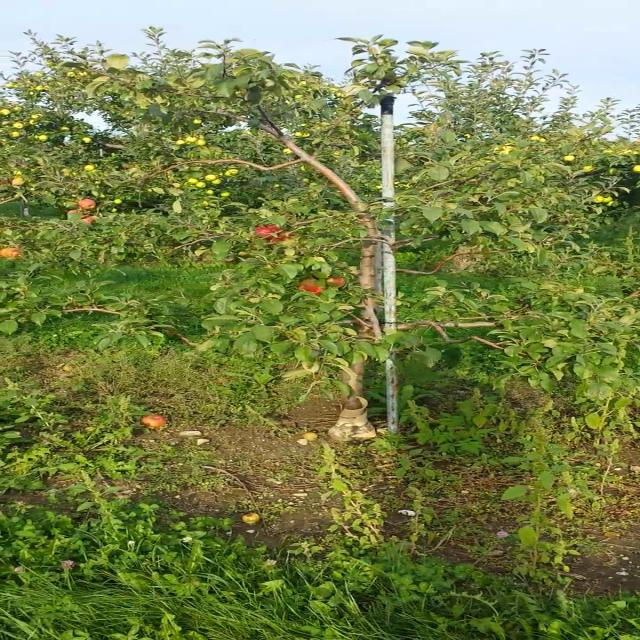apple: (300, 280, 326, 296), (256, 225, 282, 239), (272, 232, 299, 243), (0, 248, 23, 258), (78, 198, 97, 210), (327, 276, 346, 286), (79, 216, 95, 224), (67, 208, 80, 214)
